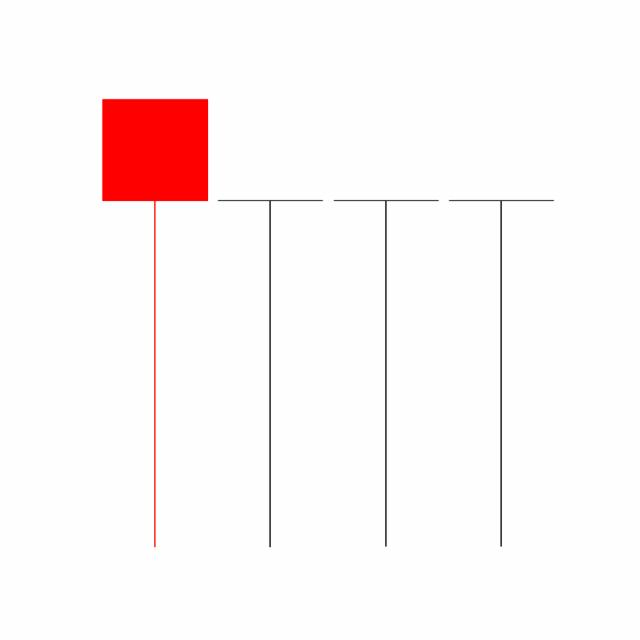Dragonfly Doji: (443, 197, 559, 551)
